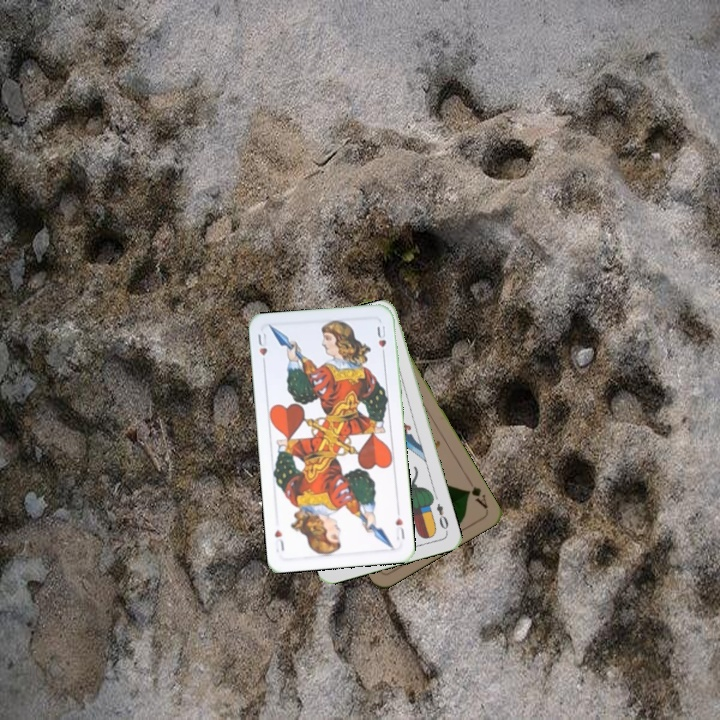EO: (432, 499, 451, 535)
GA: (463, 475, 491, 512)
HU: (254, 329, 270, 369), (392, 513, 407, 543)
